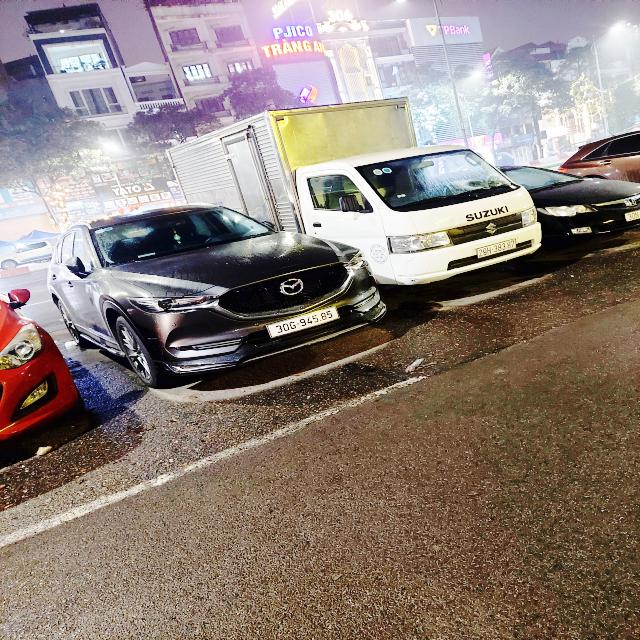license_plate: (265, 306, 342, 340)
